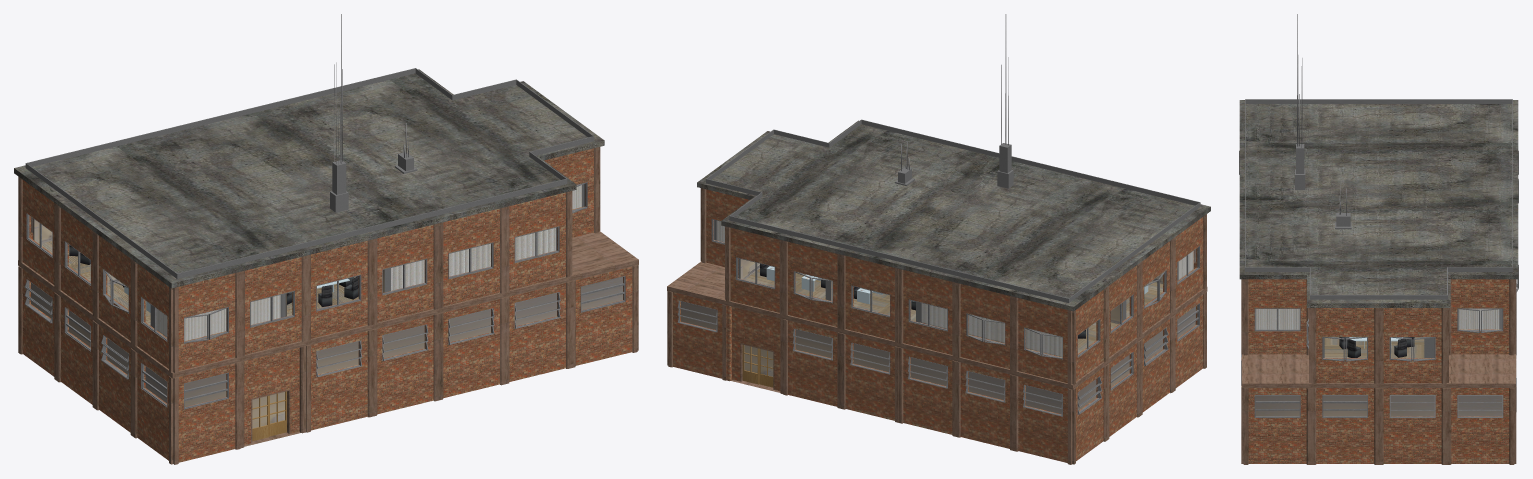
File: Building_2Stores_StockOffice.obj
3 renders of one model, left to right at view 1: azimuth 30°, elevation 25°; view 2: azimuth 150°, elevation 25°; view 3: azimuth 270°, elevation 25°, orthographic. The views are drawn at different scales.
Parts seen in each view (by area): view 1: Building_2Stores_StockOffice; view 2: Building_2Stores_StockOffice; view 3: Building_2Stores_StockOffice.
Part boxes in pixels (x1,y1,x2,y2): Building_2Stores_StockOffice: (14,14,638,464); Building_2Stores_StockOffice: (667,14,1210,464); Building_2Stores_StockOffice: (1239,14,1518,464).
Bounding box in the file's own units: 9.37 × 7.19 × 5.43.
Materials: 10 (10 with a texture image).
